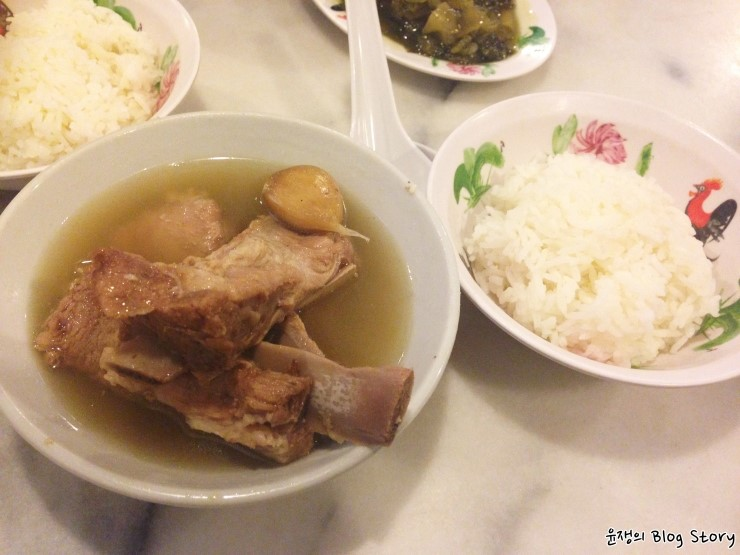plain rice: (458, 137, 724, 374), (4, 8, 176, 169)
